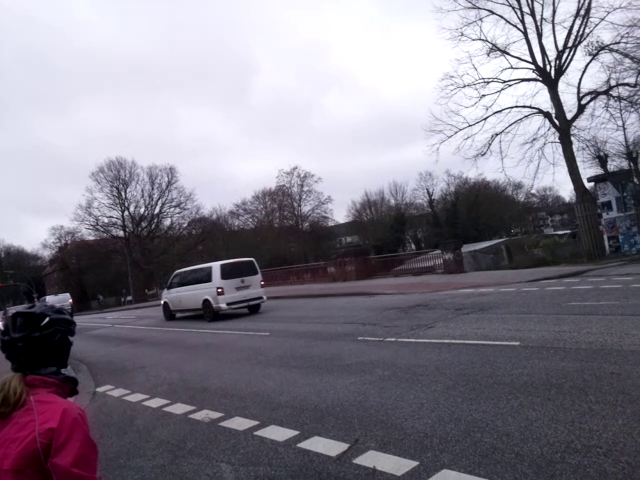car: (159, 253, 269, 329)
